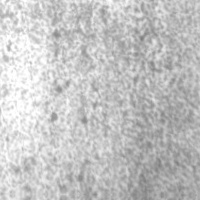pitted_surface: (0, 0, 199, 193)
